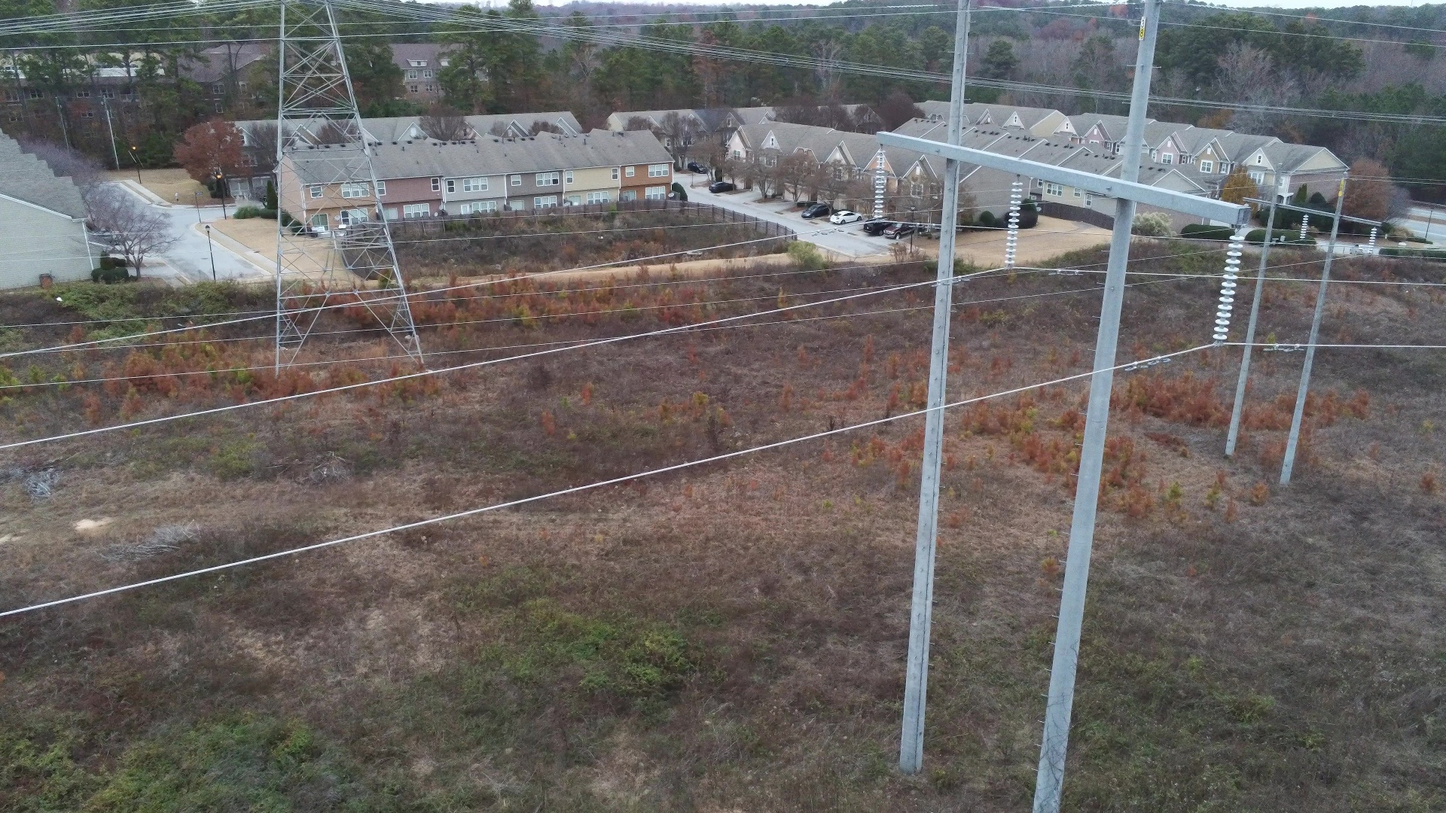insulator: (1210, 233, 1246, 343), (1002, 179, 1024, 266), (871, 147, 888, 221), (1298, 214, 1313, 242), (1365, 226, 1379, 255)
